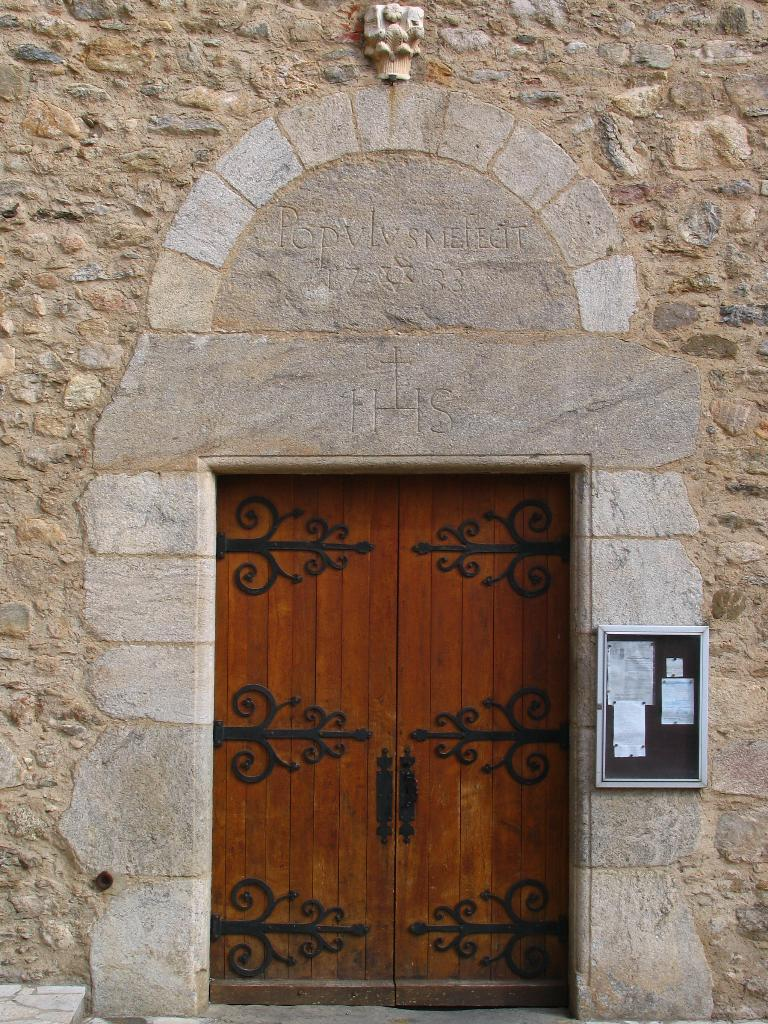handle: (401, 761, 418, 816)
